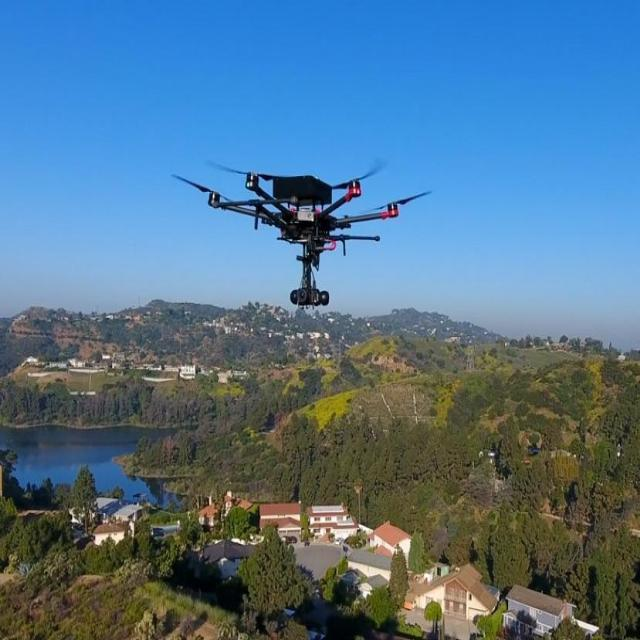UAV: (207, 163, 401, 308)
